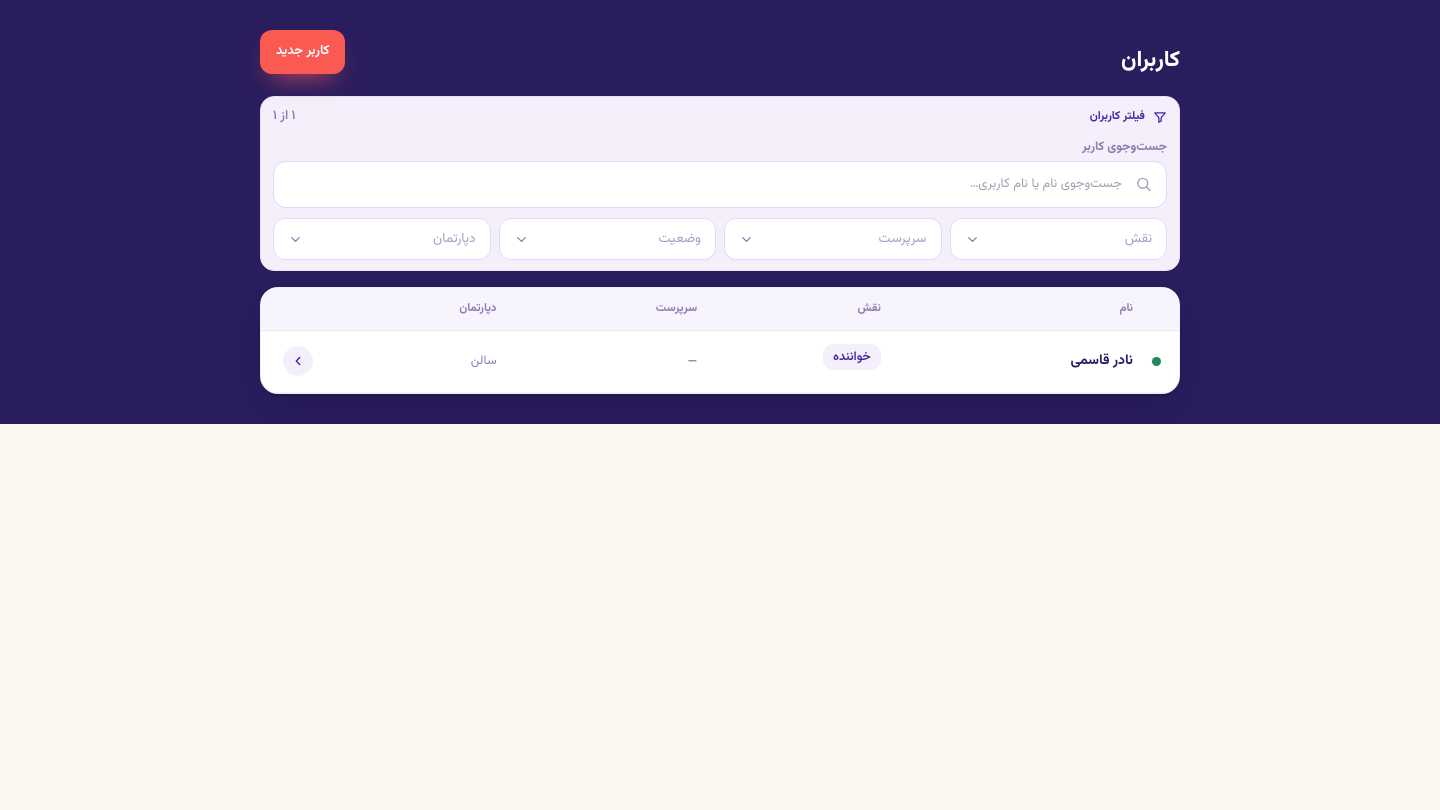
Test: the dialog shell (§5.2 Modal, §6.14) › pins the header and the footer and scrolls only the body
Click the button "کاربر جدید".
click(303, 52)  # box [260,30,345,74]
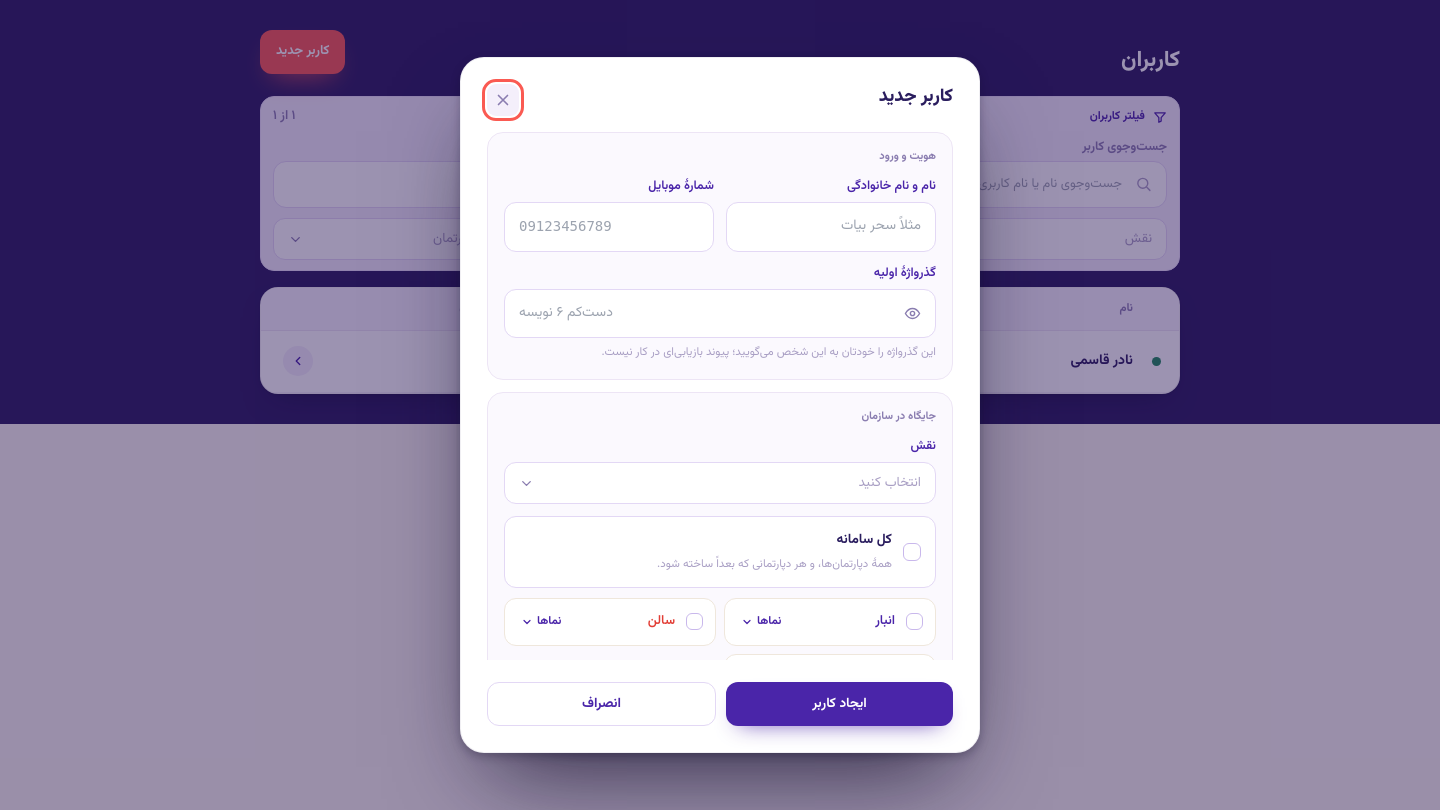
Check: the dialog is shown, box [460,57,980,753]
Check: the checkbox labelled "سالن" is shown, box [504,598,716,646]
Check: the buttons read "ایجاد کاربر", "انصراف", in this order, box [726,682,953,726]; [487,682,716,726]
